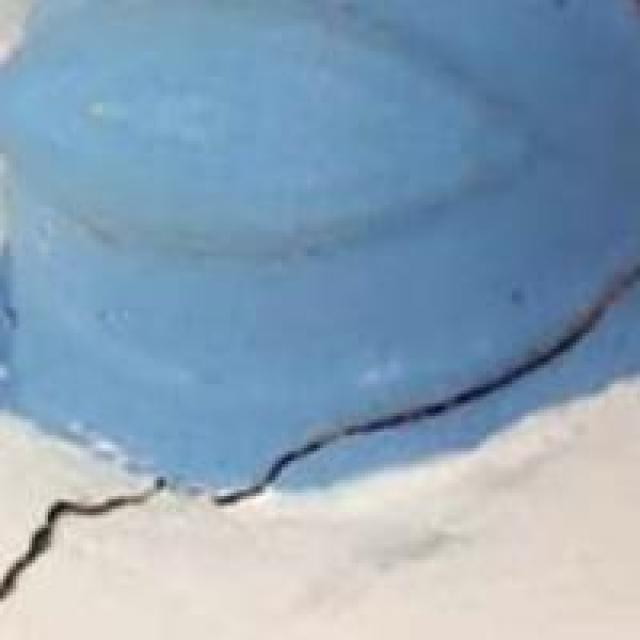crack: (6, 266, 637, 636)
